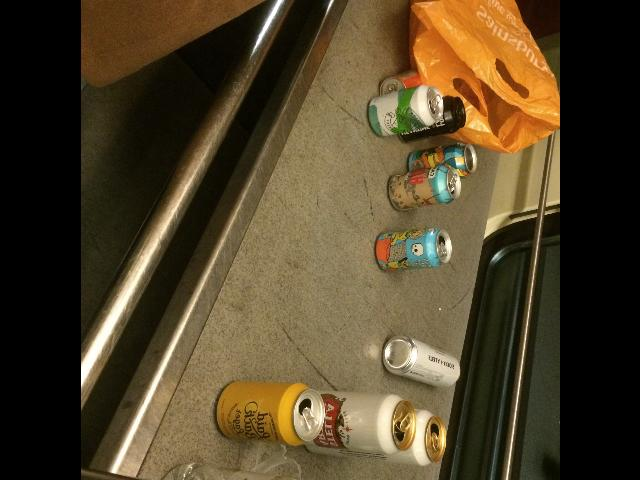metal: (304, 391, 416, 462), (215, 382, 323, 446), (367, 85, 443, 137), (382, 336, 459, 387), (387, 164, 460, 211), (375, 228, 450, 270), (399, 96, 465, 143), (392, 408, 445, 466), (407, 144, 476, 177), (378, 69, 420, 95)
